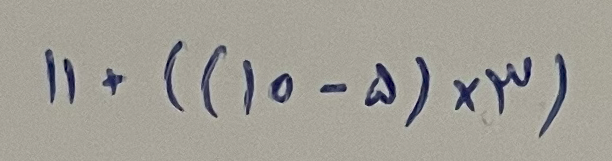character: (485, 54, 533, 115), (537, 52, 568, 139), (200, 43, 229, 120), (404, 54, 431, 129), (162, 36, 186, 115), (364, 60, 398, 110), (451, 75, 482, 112), (267, 70, 295, 106), (241, 58, 256, 117), (45, 48, 58, 106), (101, 66, 125, 94), (62, 57, 75, 102), (319, 80, 348, 96)
